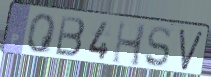4: (86, 20, 110, 61)
B: (54, 14, 87, 59)
H: (110, 19, 148, 68)
Q: (26, 12, 58, 55)
S: (143, 25, 172, 69)
V: (178, 29, 205, 72)
